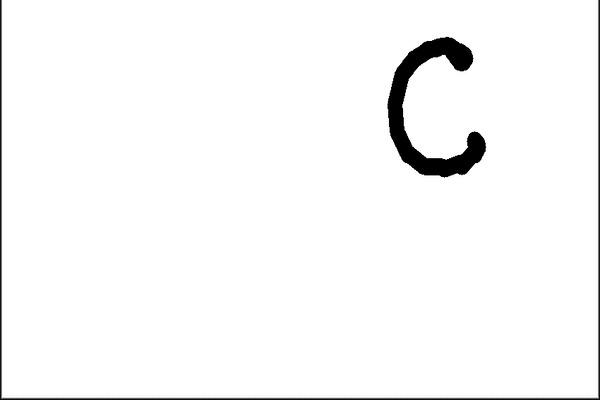C: (382, 32, 490, 180)
